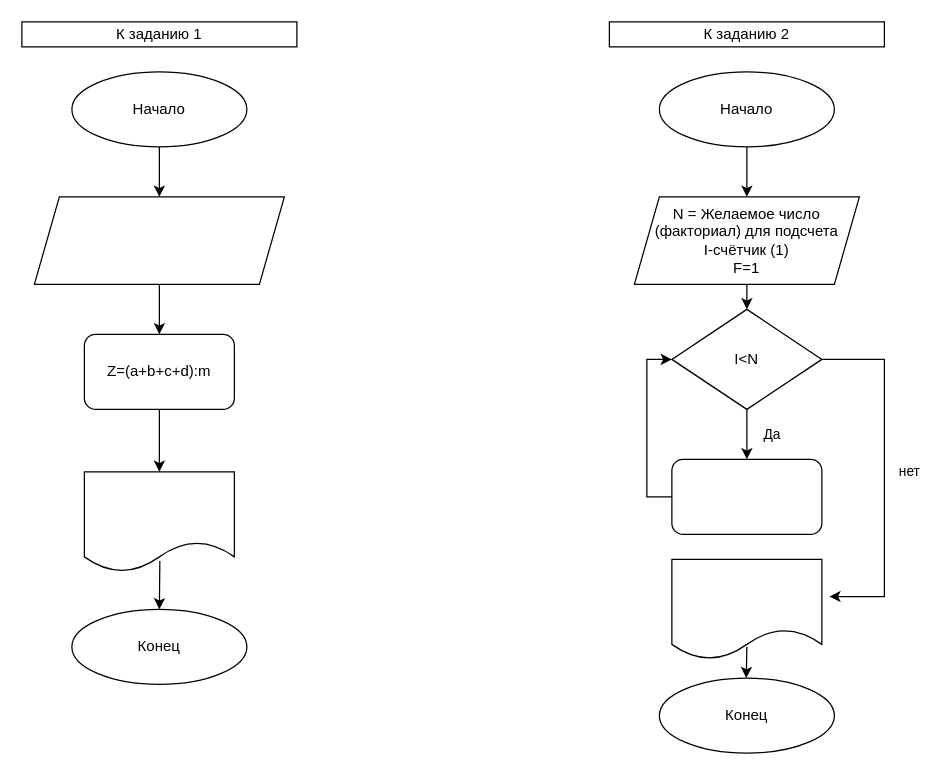
Some shapes in this 941 by 775 pixel diagram are drawn without their labels. Here are the shapes that lost their labels. From the top down, the centre of each, then its label:
At (158,240): "Задать значение числам : а;b;c;d Указать кол-во чисел, в данном случае m=4; Z=0".
At (746,496): "F=F*I I=I+1".
At (158,521): "Вывод Z".
At (746,608): "Вывод F".
